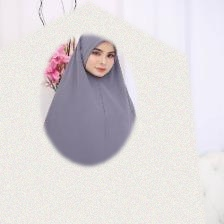Mukena: (0, 21, 200, 224)
